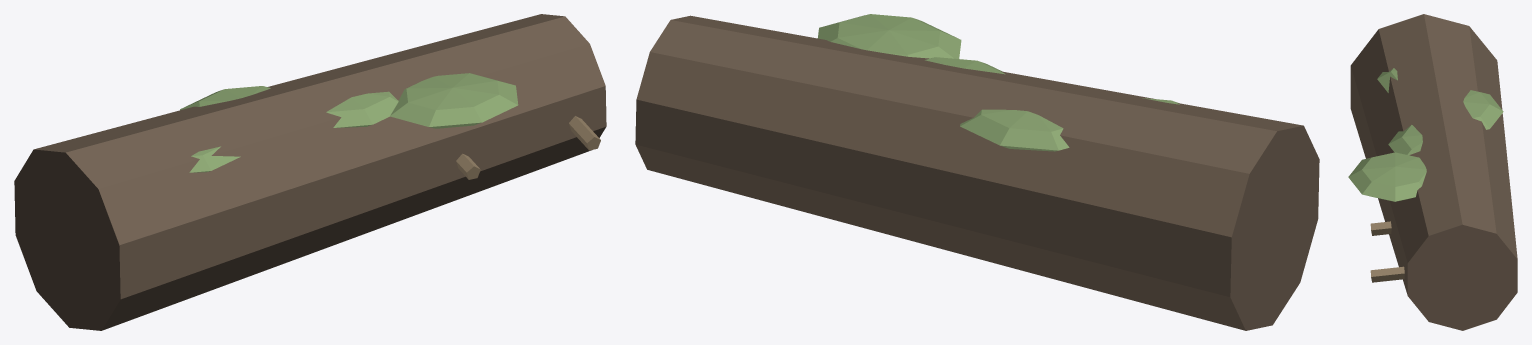
File: root_log.glb
The picture shows the model from 3 angles, left to right: view 1: azimuth 30°, elevation 25°; view 2: azimuth 150°, elevation 25°; view 3: azimuth 270°, elevation 25°; orthographic projection. The views are drawn at different scales.
Visible parts, largest first — view 1: root_log; view 2: root_log; view 3: root_log.
Boxes of the visible parts, left/top/right/bottom form: root_log: left=14, top=14, right=606, bottom=330; root_log: left=635, top=14, right=1319, bottom=330; root_log: left=1348, top=14, right=1517, bottom=330.
Bounding box in the file's own units: 0.8904 × 0.2799 × 0.3069.
